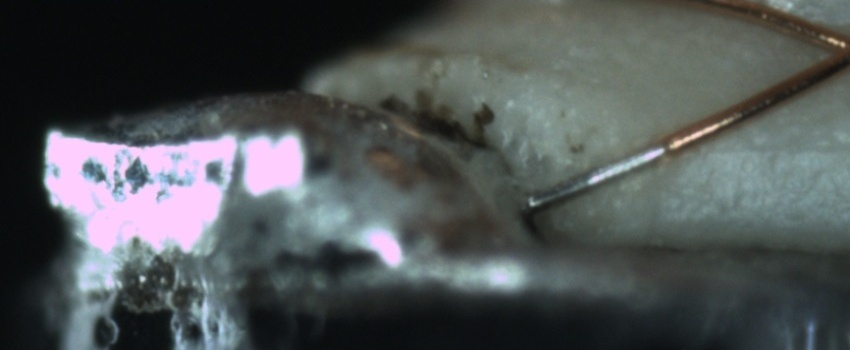CL: (802, 14, 849, 81)
DL: (710, 119, 849, 181)
TS: (526, 144, 667, 212)
